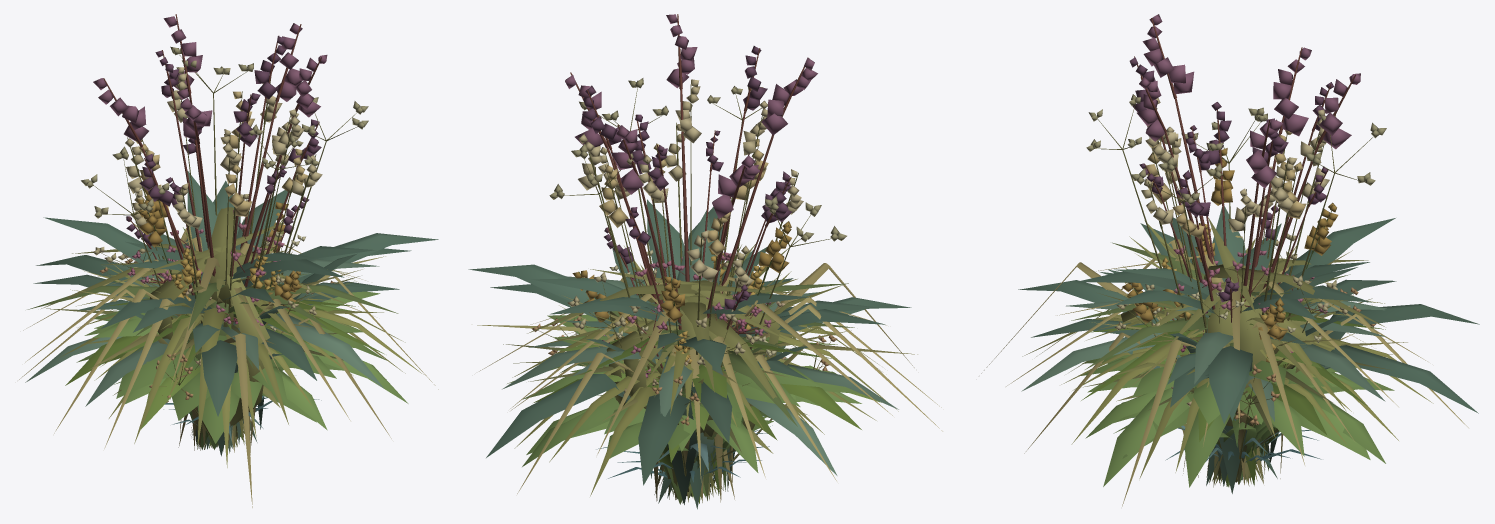
Rendered from grasses.glb.
3 renders of one model, left to right at view 1: azimuth 30°, elevation 25°; view 2: azimuth 150°, elevation 25°; view 3: azimuth 270°, elevation 25°, orthographic. The views are drawn at different scales.
Visible parts, largest first — view 1: silver_oat_grass_2_detail, purple_moor_grass_1_detail, prairie_dropseed_2_detail, purple_moor_grass_0_detail, silver_oat_grass_0_detail, silver_oat_grass_1_detail, spear_grass_2_detail, spear_grass_1_detail, ribbon_grass_2_detail, prairie_dropseed_1_detail, prairie_dropseed_0_detail, golden_foxtail_2_detail (+8 smaller); view 2: silver_oat_grass_2_detail, purple_moor_grass_1_detail, prairie_dropseed_2_detail, silver_oat_grass_1_detail, purple_moor_grass_0_detail, silver_oat_grass_0_detail, golden_foxtail_2_detail, spear_grass_2_detail, spear_grass_1_detail, ribbon_grass_1_detail, prairie_dropseed_0_detail, spear_grass_0_detail (+8 smaller); view 3: silver_oat_grass_2_detail, purple_moor_grass_1_detail, prairie_dropseed_2_detail, ribbon_grass_1_detail, silver_oat_grass_1_detail, purple_moor_grass_0_detail, silver_oat_grass_0_detail, golden_foxtail_2_detail, spear_grass_2_detail, prairie_dropseed_0_detail, spear_grass_1_detail, ribbon_grass_2_detail (+7 smaller).
Boxes of the visible parts, bbox=[...] form: silver_oat_grass_2_detail: bbox=[36, 46, 438, 456]; purple_moor_grass_1_detail: bbox=[41, 14, 349, 446]; prairie_dropseed_2_detail: bbox=[19, 227, 438, 507]; purple_moor_grass_0_detail: bbox=[27, 35, 398, 449]; silver_oat_grass_0_detail: bbox=[25, 194, 384, 453]; silver_oat_grass_1_detail: bbox=[33, 231, 411, 380]; spear_grass_2_detail: bbox=[70, 70, 385, 450]; spear_grass_1_detail: bbox=[79, 67, 383, 451]; ribbon_grass_2_detail: bbox=[90, 311, 362, 449]; prairie_dropseed_1_detail: bbox=[76, 275, 350, 449]; prairie_dropseed_0_detail: bbox=[59, 262, 423, 467]; golden_foxtail_2_detail: bbox=[65, 175, 325, 448]; silver_oat_grass_2_detail: bbox=[468, 78, 911, 509]; purple_moor_grass_1_detail: bbox=[527, 14, 827, 500]; prairie_dropseed_2_detail: bbox=[479, 263, 942, 502]; silver_oat_grass_1_detail: bbox=[486, 210, 885, 457]; purple_moor_grass_0_detail: bbox=[582, 46, 854, 503]; silver_oat_grass_0_detail: bbox=[502, 262, 898, 498]; golden_foxtail_2_detail: bbox=[533, 221, 861, 503]; spear_grass_2_detail: bbox=[477, 122, 917, 499]; spear_grass_1_detail: bbox=[591, 79, 846, 502]; ribbon_grass_1_detail: bbox=[522, 337, 818, 496]; prairie_dropseed_0_detail: bbox=[514, 305, 878, 499]; spear_grass_0_detail: bbox=[568, 139, 829, 496]; silver_oat_grass_2_detail: bbox=[1018, 94, 1479, 493]; purple_moor_grass_1_detail: bbox=[1098, 14, 1384, 486]; prairie_dropseed_2_detail: bbox=[981, 235, 1468, 506]; ribbon_grass_1_detail: bbox=[1081, 358, 1385, 487]; silver_oat_grass_1_detail: bbox=[1031, 217, 1478, 475]; purple_moor_grass_0_detail: bbox=[1071, 56, 1350, 482]; silver_oat_grass_0_detail: bbox=[1021, 233, 1386, 484]; golden_foxtail_2_detail: bbox=[1122, 148, 1356, 486]; spear_grass_2_detail: bbox=[1088, 127, 1407, 487]; prairie_dropseed_0_detail: bbox=[1022, 298, 1433, 478]; spear_grass_1_detail: bbox=[1111, 97, 1340, 484]; ribbon_grass_2_detail: bbox=[1114, 310, 1370, 487].
Bounding box in the file's own units: 1.2 × 1.11 × 1.19.
